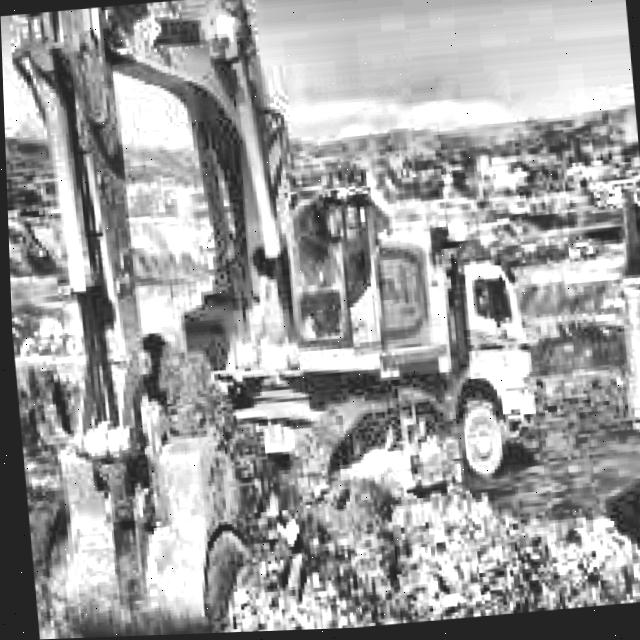dump_truck: (389, 214, 539, 483)
excavator: (0, 0, 466, 640)
